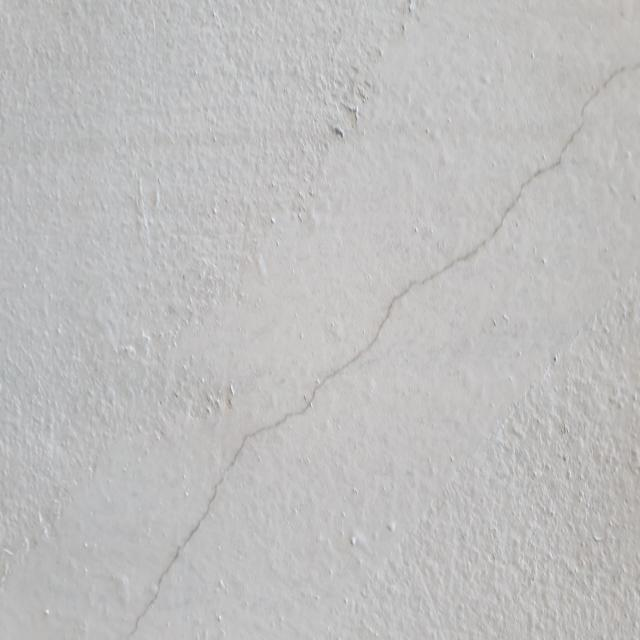SurfaceCrack: (2, 3, 639, 640)
